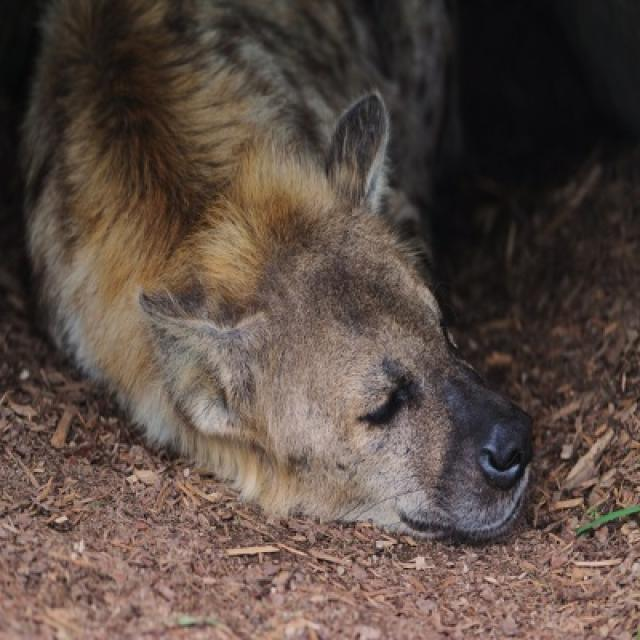hyena: (22, 0, 531, 541)
